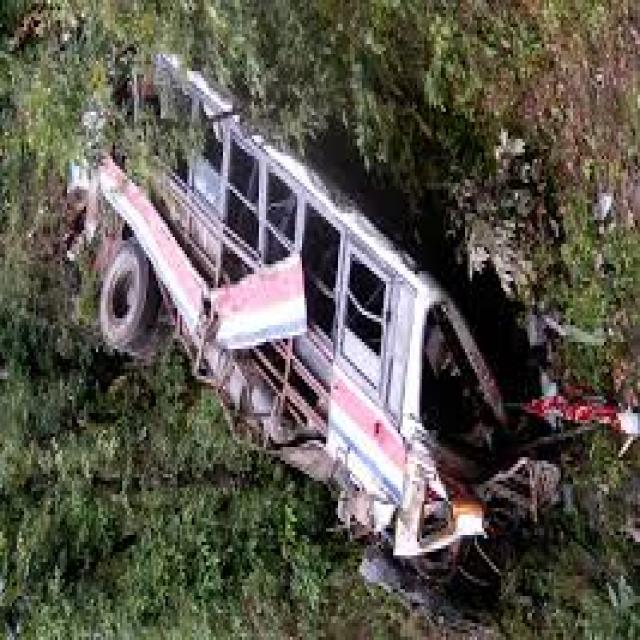accident: (61, 13, 600, 620)
